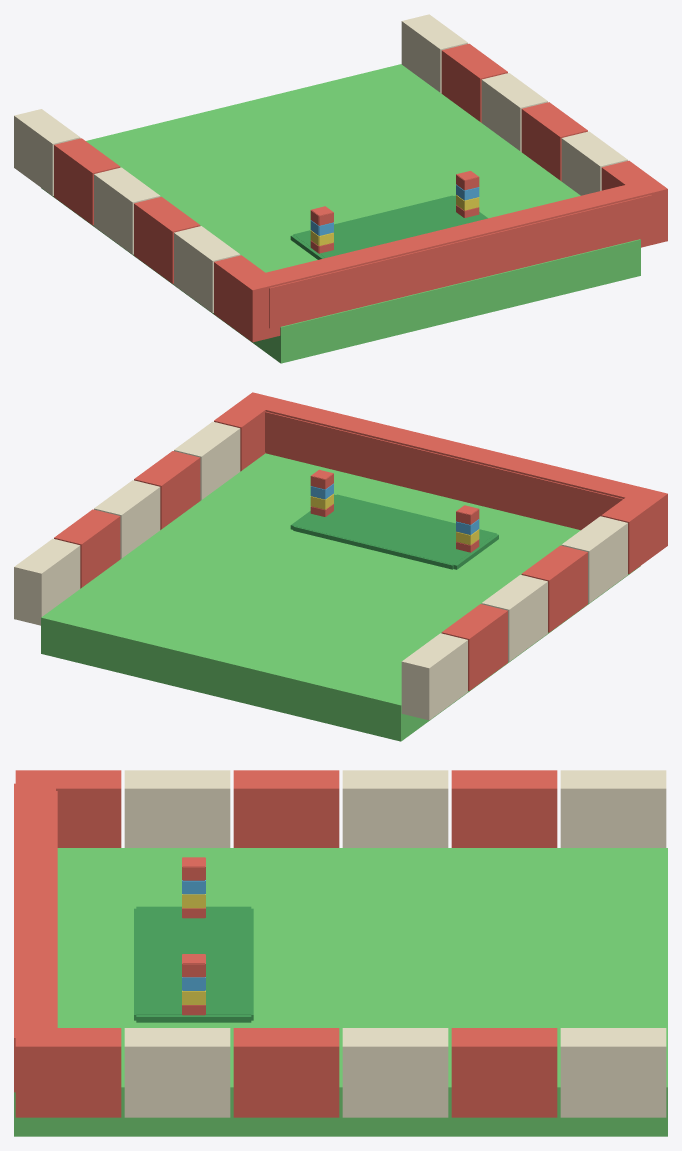
Rendered from carnival_tee_6x6.glb.
3 renders of one model, top to bottom at view 1: azimuth 30°, elevation 25°; view 2: azimuth 150°, elevation 25°; view 3: azimuth 270°, elevation 25°, orthographic. The views are drawn at different scales.
Parts seen in each view (by area): view 1: Mesh_Floor, Mesh_Wall_Back, Mesh_Wall_L, Mesh_Wall_R, Mesh_Detail_Tee; view 2: Mesh_Floor, Mesh_Wall_Back, Mesh_Wall_L, Mesh_Wall_R, Mesh_Detail_Tee; view 3: Mesh_Floor, Mesh_Wall_R, Mesh_Wall_L, Mesh_Detail_Tee, Mesh_Wall_Back.
Boxes of the visible parts, bbox=[...] form: Mesh_Floor: bbox=[41, 64, 640, 363]; Mesh_Wall_Back: bbox=[238, 182, 651, 331]; Mesh_Wall_L: bbox=[14, 109, 280, 342]; Mesh_Wall_R: bbox=[401, 14, 667, 247]; Mesh_Detail_Tee: bbox=[290, 171, 487, 259]; Mesh_Floor: bbox=[41, 453, 640, 741]; Mesh_Wall_Back: bbox=[255, 396, 667, 536]; Mesh_Wall_L: bbox=[401, 487, 667, 720]; Mesh_Wall_R: bbox=[14, 392, 278, 625]; Mesh_Detail_Tee: bbox=[290, 469, 498, 569]; Mesh_Floor: bbox=[14, 848, 667, 1136]; Mesh_Wall_R: bbox=[15, 1028, 666, 1117]; Mesh_Wall_L: bbox=[15, 770, 666, 847]; Mesh_Detail_Tee: bbox=[134, 857, 253, 1022]; Mesh_Wall_Back: bbox=[14, 781, 57, 1103].
Size of what is drawn, in the model's own units: 6 by 1.1 by 6.
